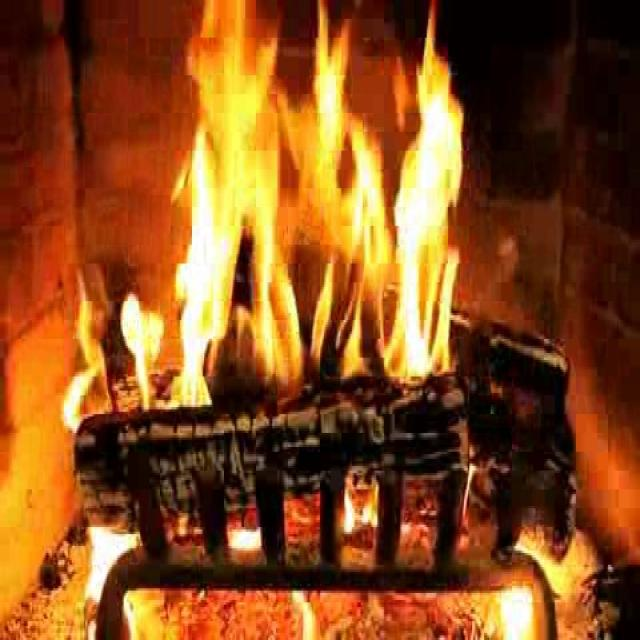fire: (175, 6, 474, 408)
